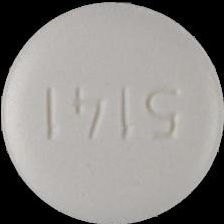54868-5862: (0, 0, 224, 224)
